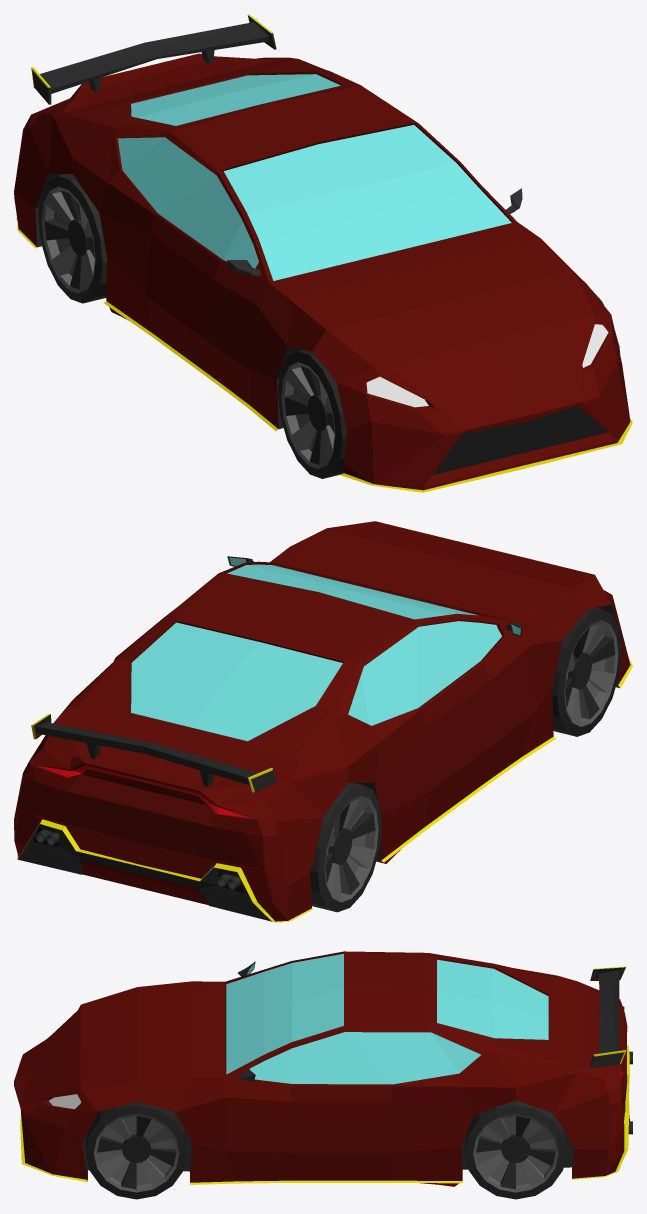
File: aston_martin_5.fbx
3 views of the same model, one above another, from view 1: azimuth 30°, elevation 25°; view 2: azimuth 150°, elevation 25°; view 3: azimuth 270°, elevation 25° (orthographic). The views are drawn at different scales.
Parts seen in each view (by area): view 1: Body, Windows, Black parts, Back wheel right, Front wheel right, Yellow parts; view 2: Body, Windows, Black parts, Back wheel right, Front wheel right, Yellow parts, Brake lights; view 3: Body, Windows, Front wheel left, Back wheel left, Black parts, Yellow parts.
Boxes of the visible parts, x1,y1,x2,y2 form: Body: (14,53,630,490); Windows: (118,74,608,407); Black parts: (32,15,608,475); Back wheel right: (38,174,107,303); Front wheel right: (278,350,346,478); Yellow parts: (16,14,632,492); Body: (14,521,630,921); Windows: (131,557,520,741); Black parts: (17,556,621,921); Back wheel right: (310,783,381,912); Front wheel right: (552,608,621,736); Yellow parts: (17,657,632,922); Brake lights: (38,765,251,818); Body: (14,951,627,1182); Windows: (49,953,548,1109); Front wheel left: (85,1102,187,1199); Back wheel left: (465,1100,566,1199); Black parts: (81,961,632,1186); Yellow parts: (20,966,629,1184).
Size of what is drawn, in the model's own units: 194 by 127 by 447.
